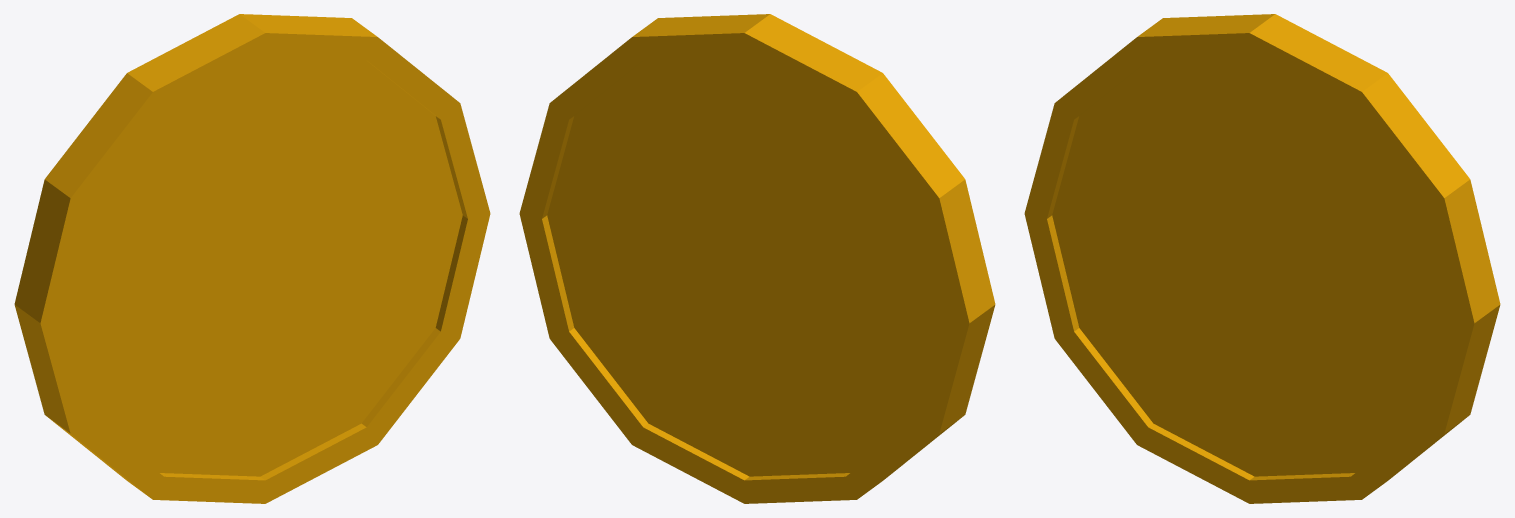
Rendered from Coin.fbx.
The picture shows the model from 3 angles, left to right: view 1: azimuth 30°, elevation 25°; view 2: azimuth 150°, elevation 25°; view 3: azimuth 330°, elevation 25°; orthographic projection.
Parts seen in each view (by area): view 1: Cylinder; view 2: Cylinder; view 3: Cylinder.
Part boxes in pixels (x1=…): Cylinder: x1=14, y1=14, x2=490, y2=503; Cylinder: x1=519, y1=14, x2=995, y2=503; Cylinder: x1=1024, y1=14, x2=1500, y2=503.
Size of the model in its own units: 2 by 2 by 0.2.
